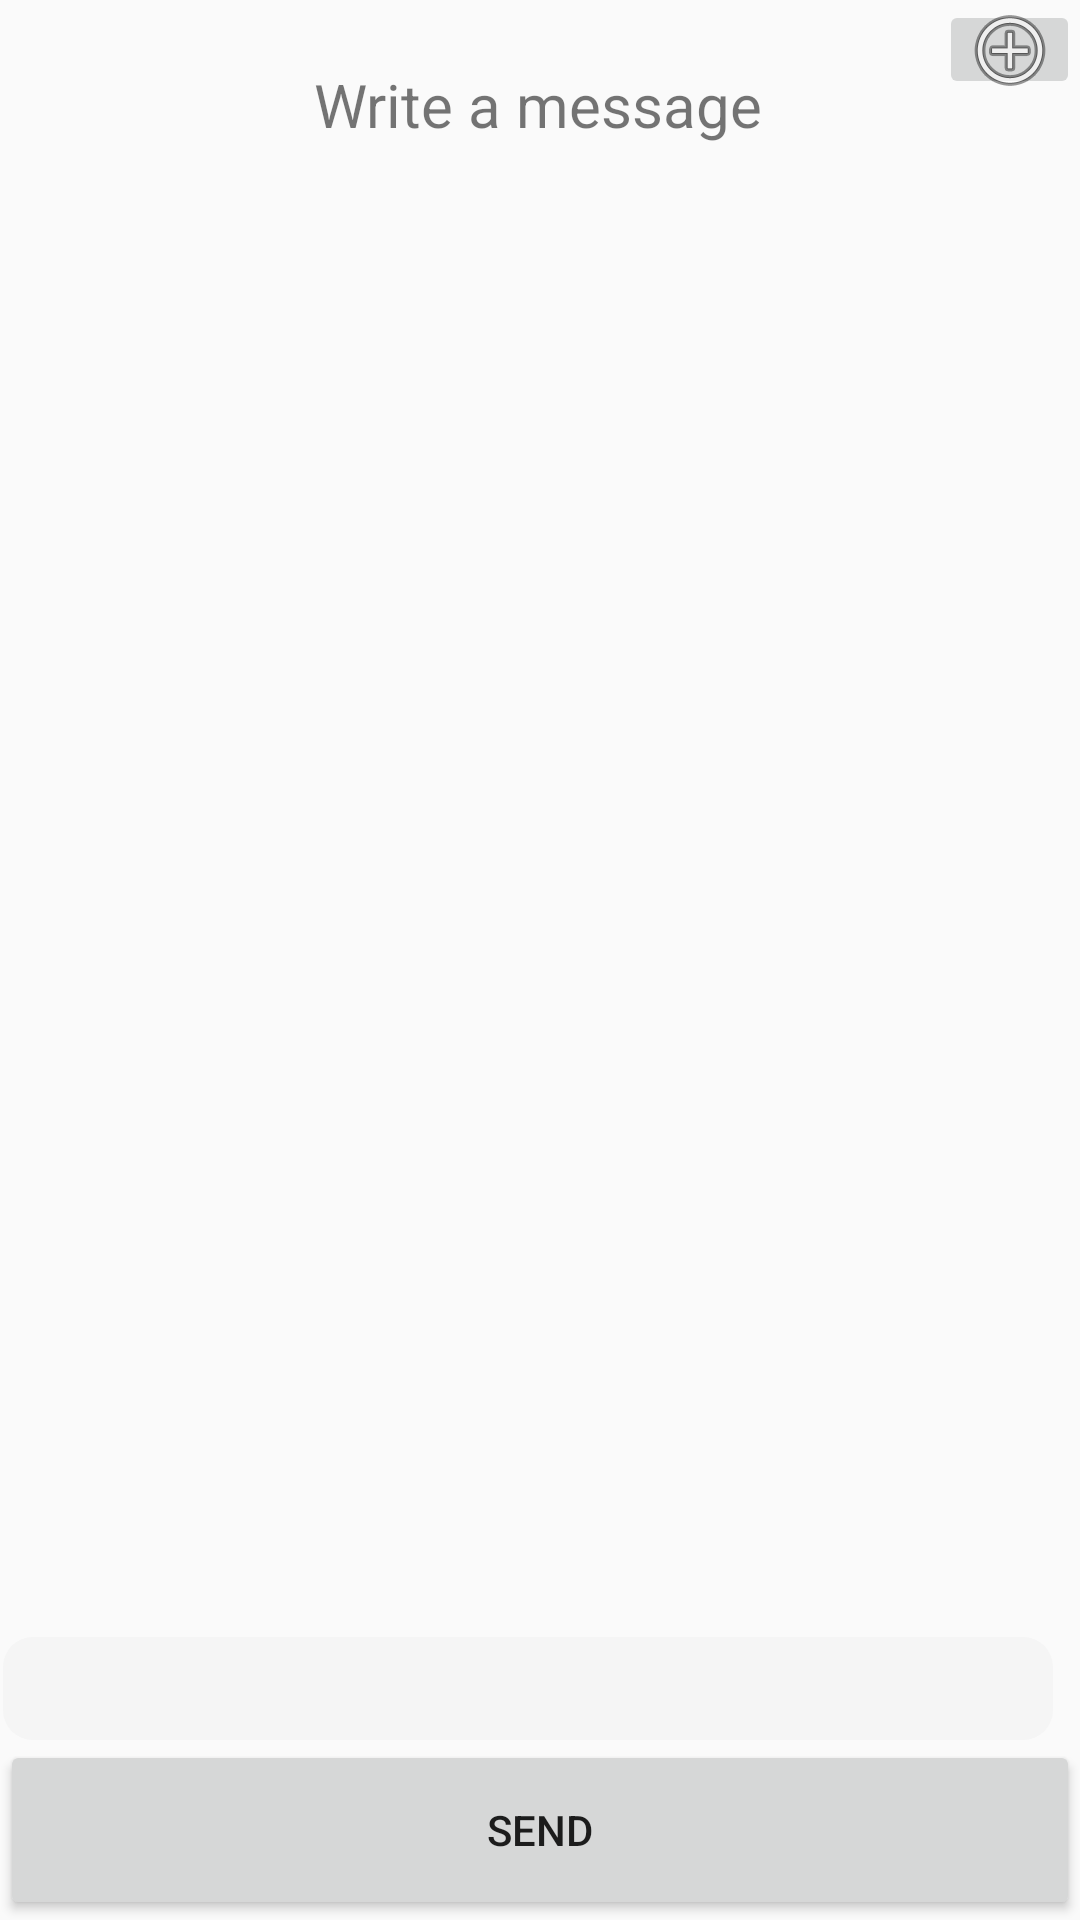

Named icons in this screenshot (1080px×1920px) and their centers, (x,y):
add: (1009,50)
